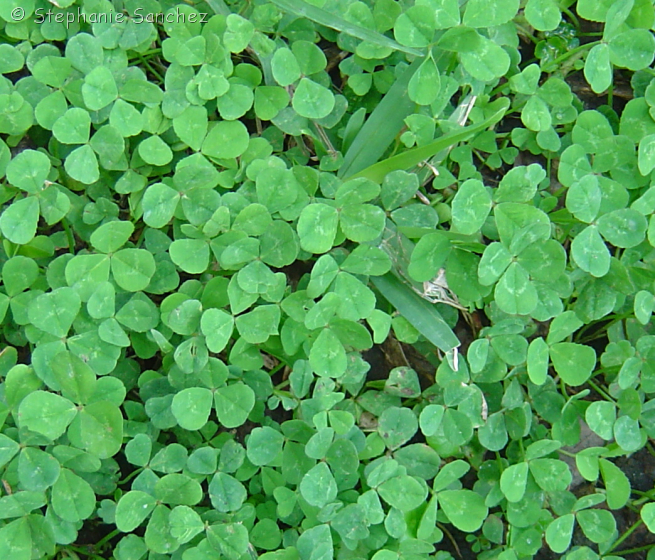4-clover: (18, 351, 127, 458), (478, 220, 567, 313)
